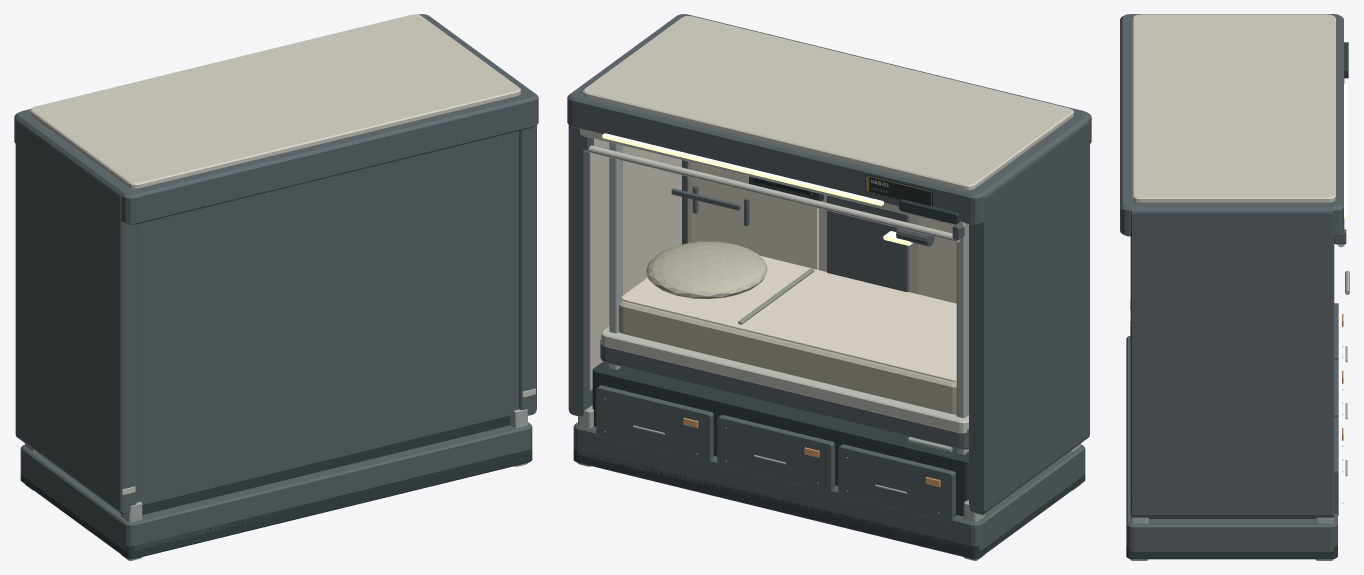
The model's file is crew_bunk_retro.glb.
The picture shows the model from 3 angles, left to right: view 1: azimuth 30°, elevation 25°; view 2: azimuth 150°, elevation 25°; view 3: azimuth 270°, elevation 25°; orthographic projection. The views are drawn at different scales.
Parts seen in each view (by area): view 1: static_graphite, static_bone, static_deep, static_steel; view 2: static_graphite, static_bone, static_cream, static_deep, static_fabric, static_satinsteel, Drawer_01_Frame, Drawer_02_Frame, Drawer_03_Frame, static_steel, Curtain_Track, Overhead_Light_Emitter (+2 smaller); view 3: static_graphite, static_bone, static_deep, Overhead_Light_Emitter, Drawer_03_Frame, static_steel.
Part boxes in pixels (x1,y1,x2,y2): static_graphite: (14,14,538,550); static_bone: (29,14,520,188); static_deep: (20,416,532,559); static_steel: (25,409,527,560); static_graphite: (567,14,1091,550); static_bone: (582,16,1073,391); static_cream: (621,162,956,381); static_deep: (573,176,1085,559); static_fabric: (619,241,956,414); static_satinsteel: (580,128,968,433); Drawer_01_Frame: (838,444,955,522); Drawer_02_Frame: (717,415,834,492); Drawer_03_Frame: (596,385,713,462); static_steel: (578,142,1080,560); Curtain_Track: (585,145,960,242); Overhead_Light_Emitter: (602,133,883,205); static_graphite: (1120,14,1346,552); static_bone: (1132,14,1335,202); static_deep: (1126,42,1348,559); Overhead_Light_Emitter: (1344,84,1347,218); Drawer_03_Frame: (1334,417,1338,515); static_steel: (1130,314,1343,560).
Bounding box in the file's own units: 2.28 × 1.96 × 1.13.
Materials: 13 (2 with a texture image).
